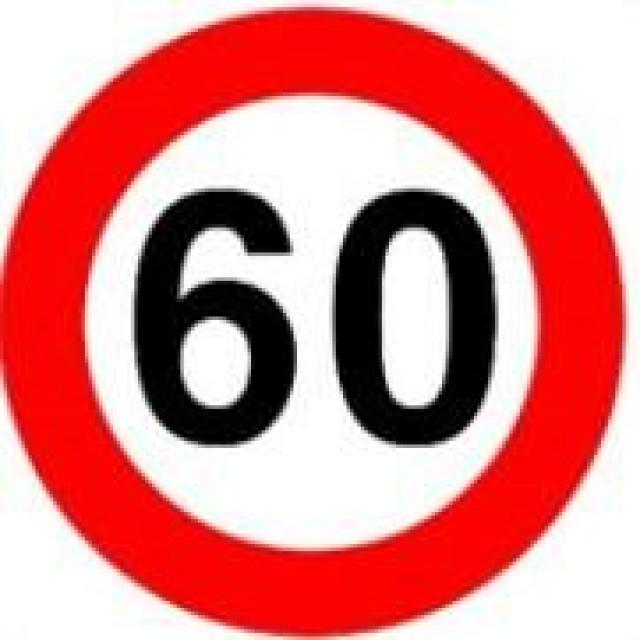speed_limit_60: (0, 3, 615, 630)
